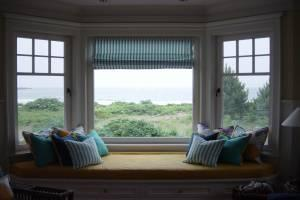window: (8, 19, 277, 152)
